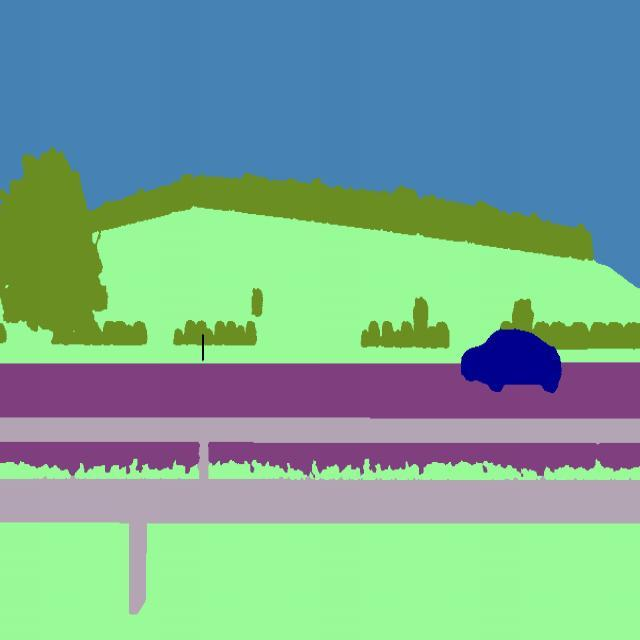safe: (460, 326, 564, 398)
